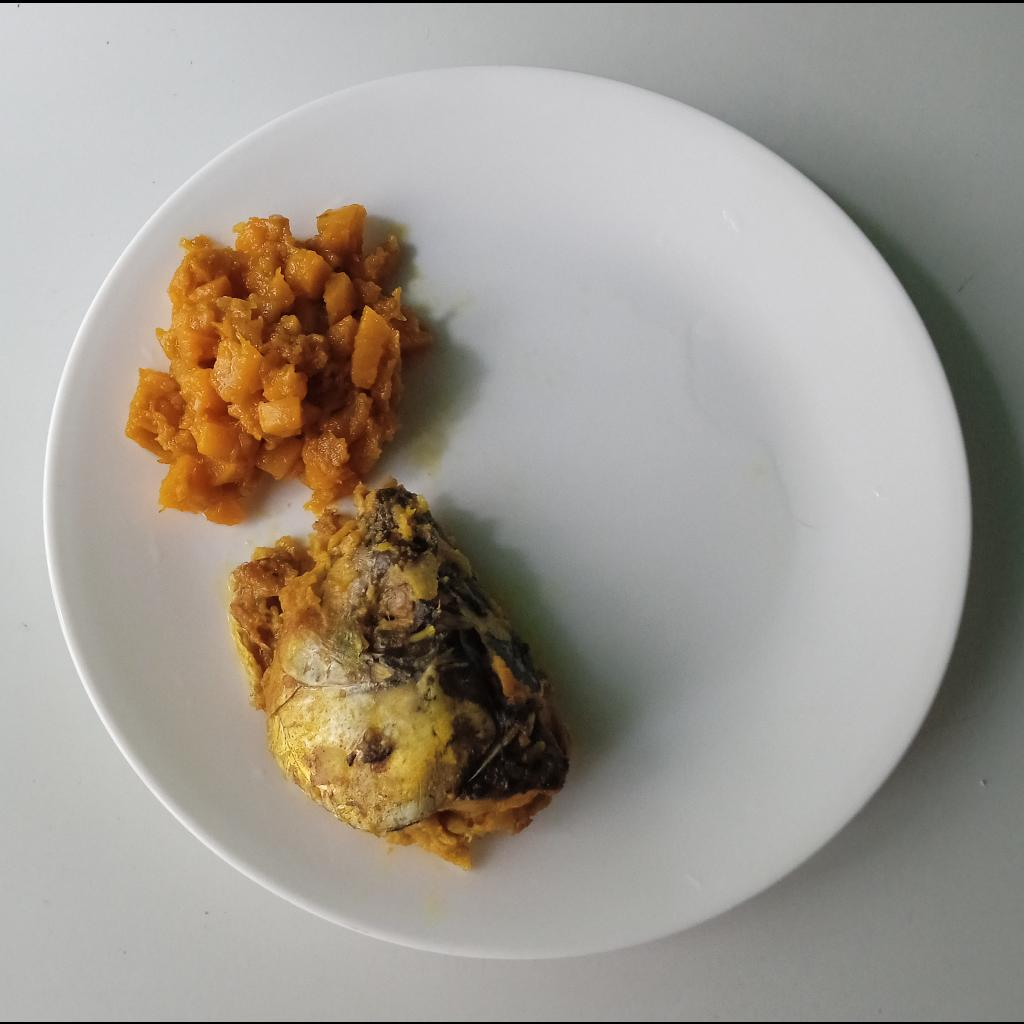fish: (222, 468, 576, 869)
kumra-vaji: (128, 198, 434, 528)
